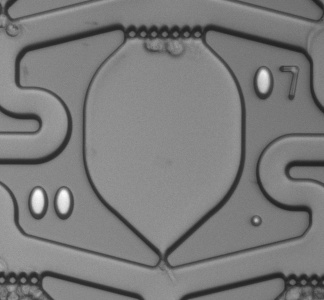AptNum: (248, 61, 308, 109)
Marker: (245, 212, 267, 233)
StNum: (20, 178, 84, 229)
Trap: (136, 257, 193, 300)
